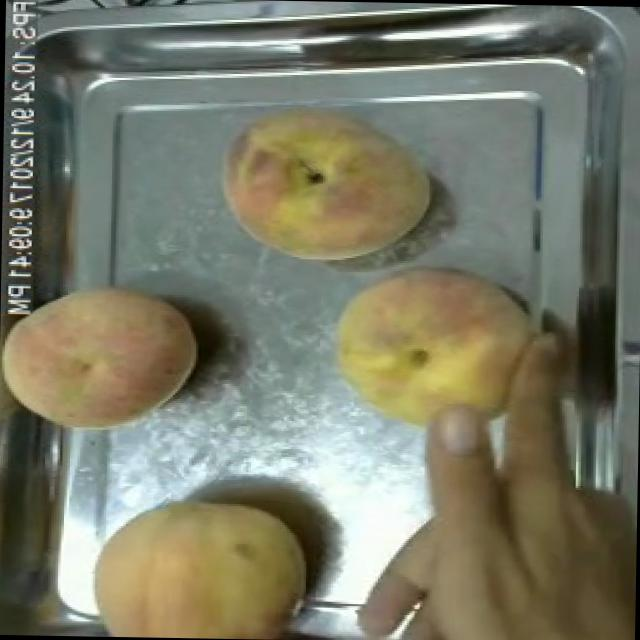Fruit: (344, 422, 638, 640), (209, 94, 438, 270), (323, 256, 537, 442), (74, 480, 322, 640), (0, 272, 207, 442)
